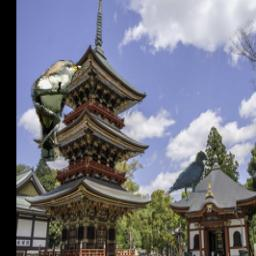Crow: (165, 151, 210, 203)
Cuckoo: (31, 60, 85, 161)
